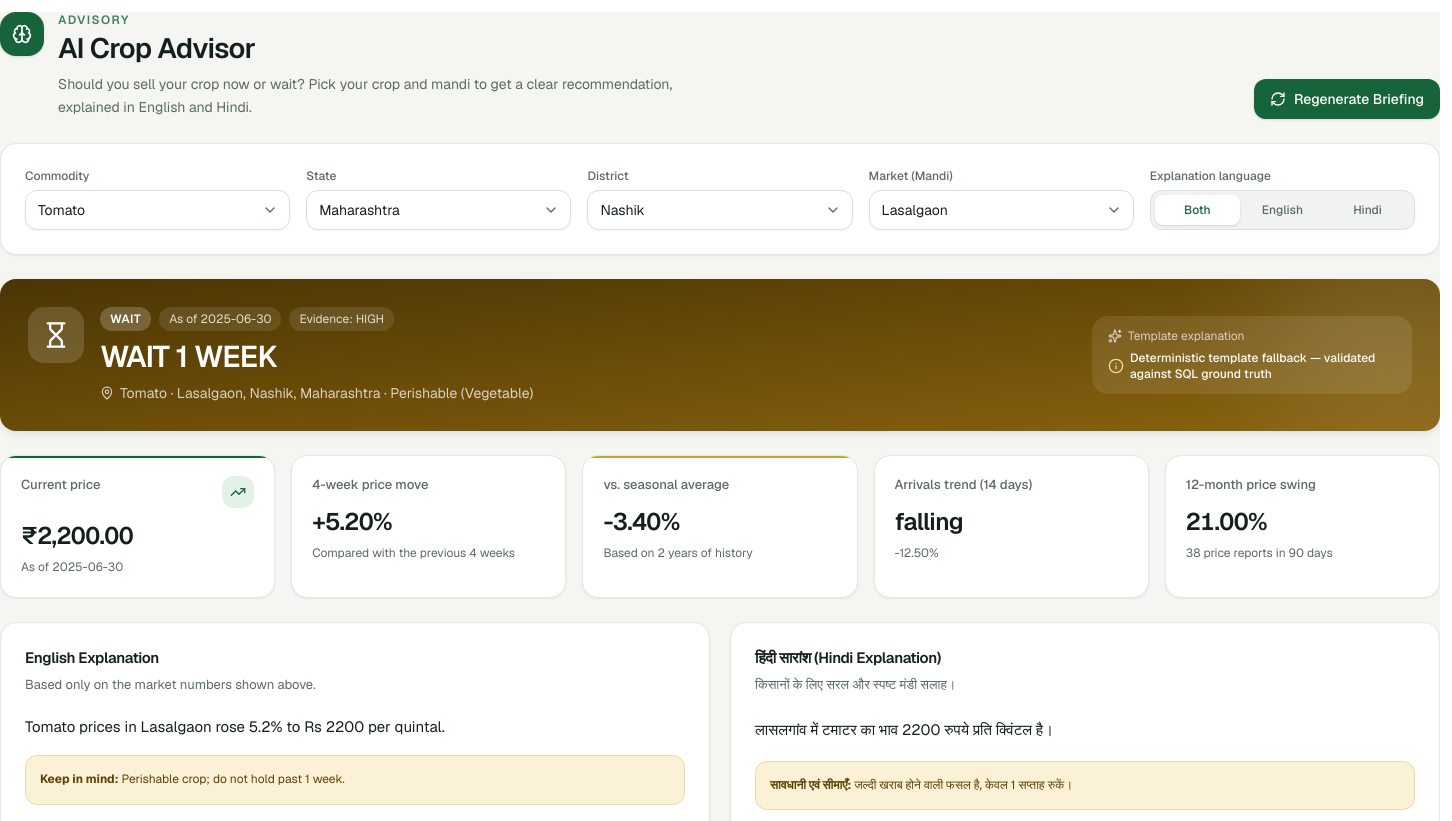
AiAdvisorPage language toggle & regenerate behavior › does not duplicate POST calls on language toggle and calls force_refresh=true on Regenerate
Later steps or results of the test are not shown.
Expected: the heading "WAIT 1 WEEK" is shown, [100,337,277,376]
Expected: the heading "English Explanation" is shown, [25,648,159,667]
Click the button "Hindi": (1367, 210) [1325,195,1410,225]
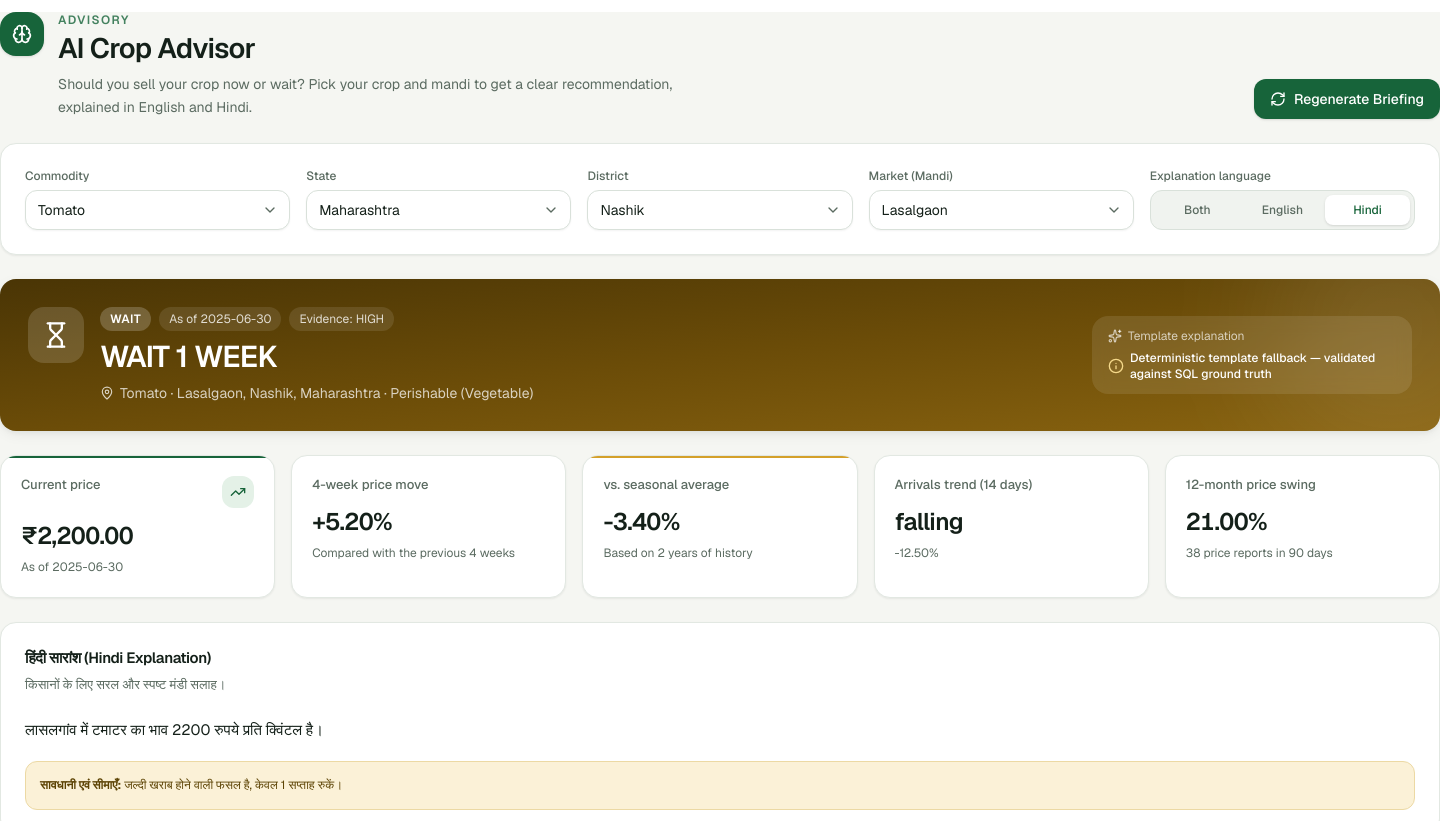
Expected: the heading "हिंदी सारांश (Hindi Explanation)" is shown, [25,648,211,667]
Expected: the heading "English Explanation" is gone
